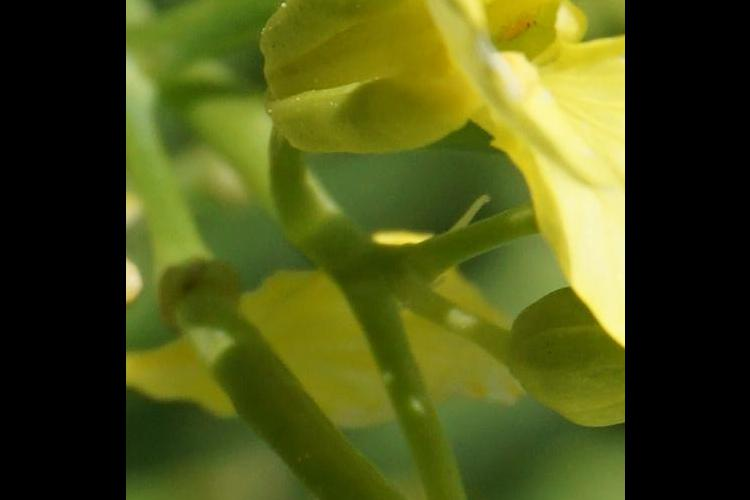bud: (506, 280, 625, 431)
